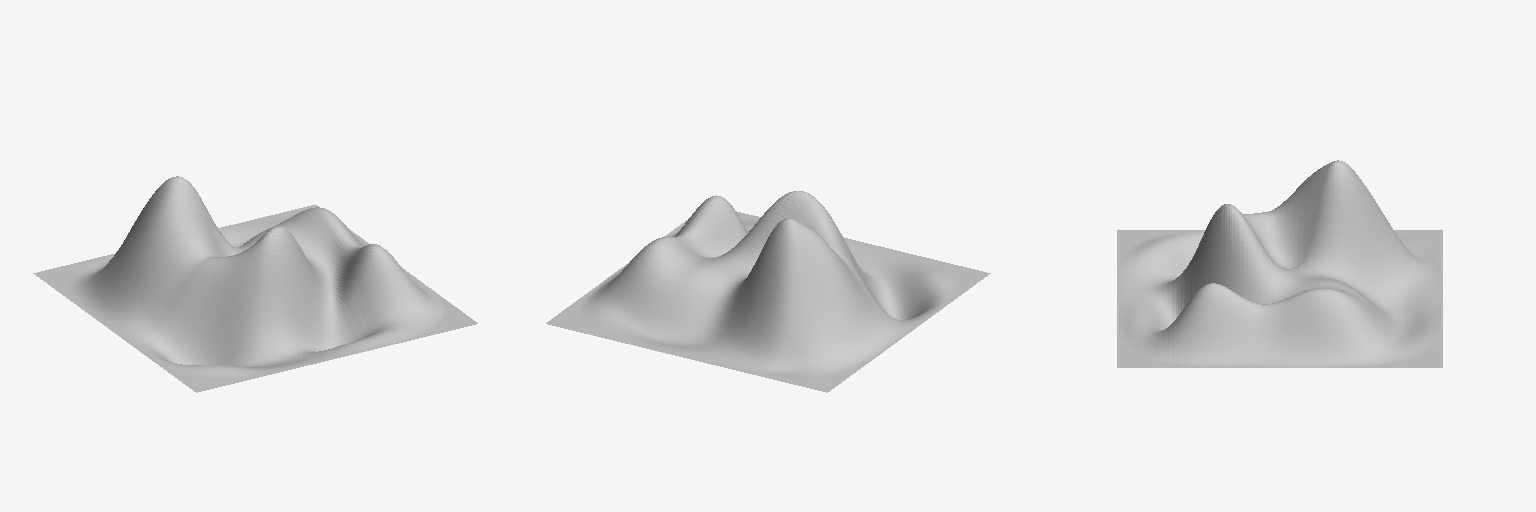
The model's file is iceberg2.obj.
3 views of the same model, side by side, from view 1: azimuth 30°, elevation 25°; view 2: azimuth 150°, elevation 25°; view 3: azimuth 270°, elevation 25° (orthographic).
Visible parts, largest first — view 1: Landscape; view 2: Landscape; view 3: Landscape.
Boxes of the visible parts, x1=… form: Landscape: x1=33, y1=176, x2=477, y2=392; Landscape: x1=546, y1=191, x2=990, y2=392; Landscape: x1=1117, y1=160, x2=1442, y2=367.
Bounding box in the file's own units: 2 × 0.9477 × 2.